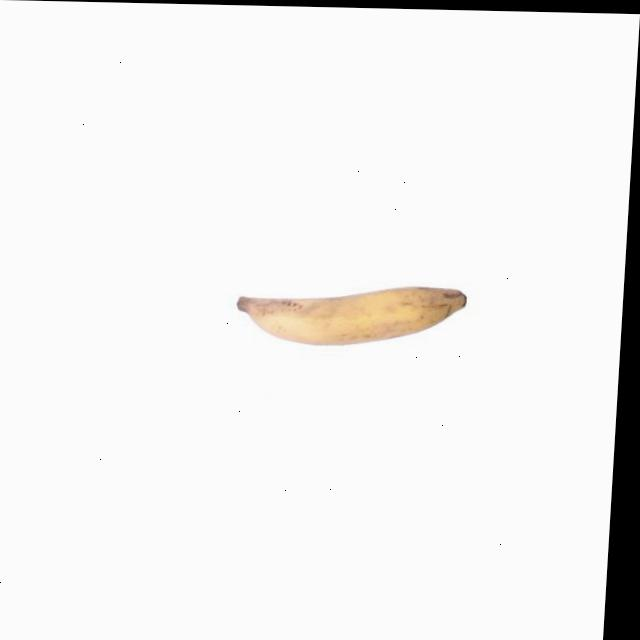banana: (227, 276, 474, 353)
